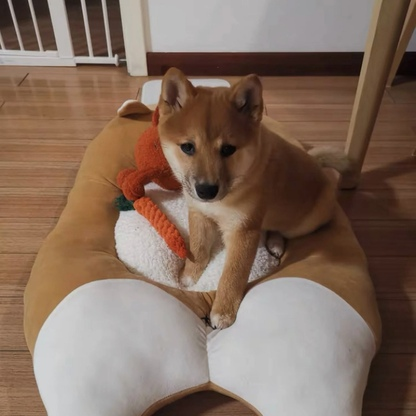shiba: (145, 62, 353, 333)
